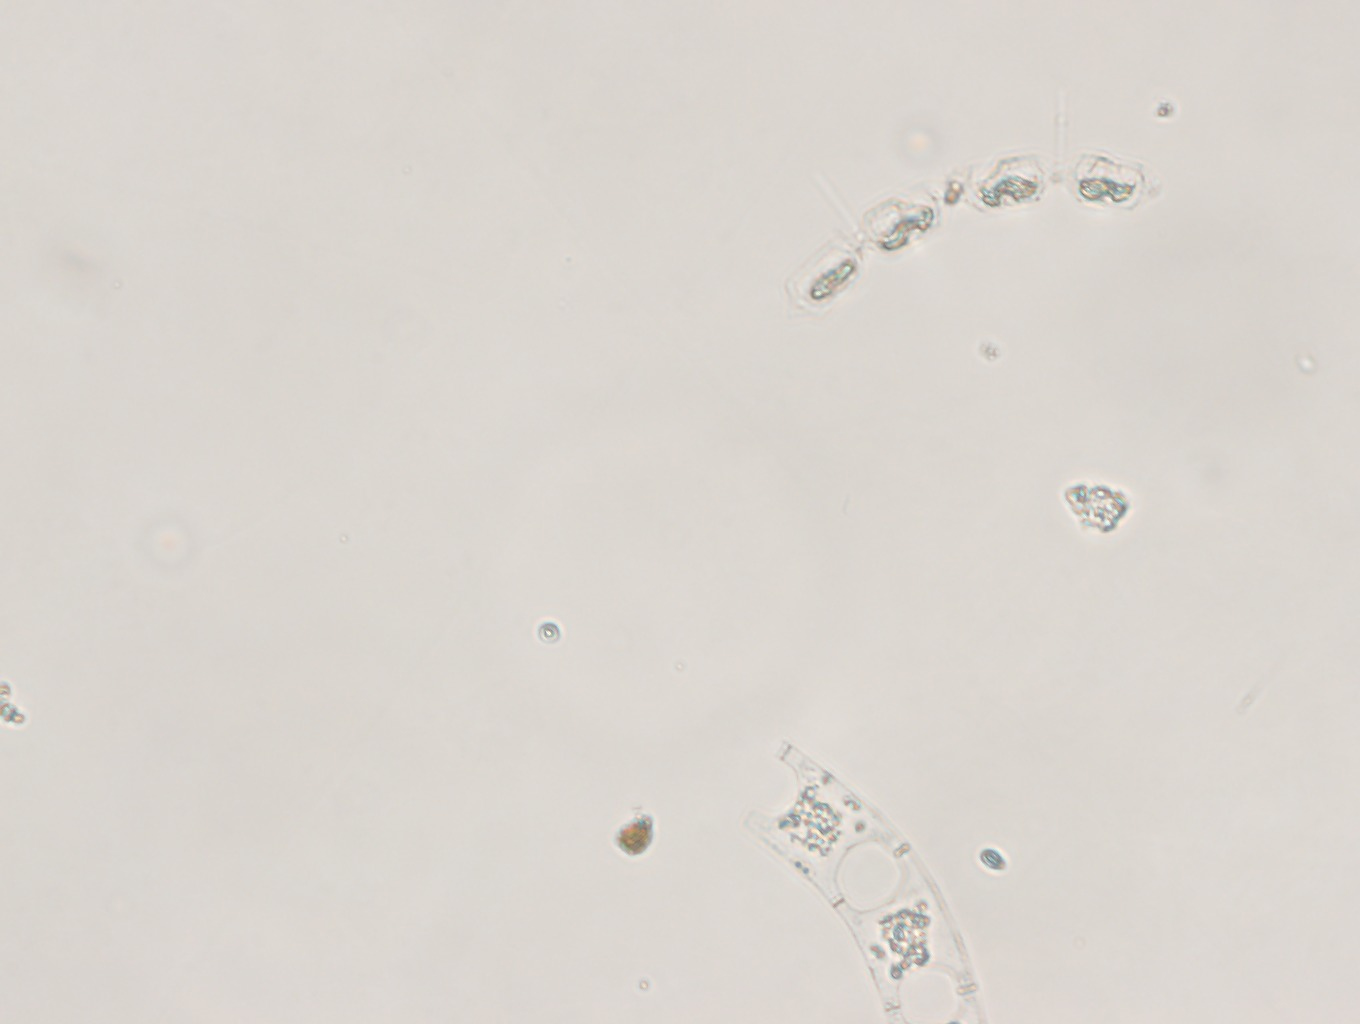eucampia: (742, 735, 1019, 1024)
